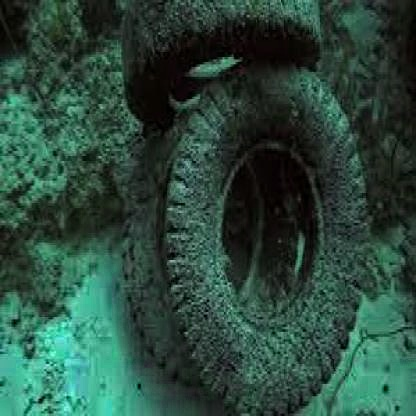tire: (171, 62, 373, 416), (99, 109, 202, 401), (111, 2, 330, 124)
